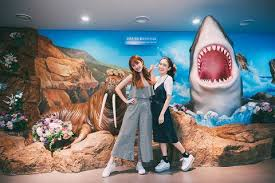people: (152, 57, 194, 171), (111, 55, 151, 174)
